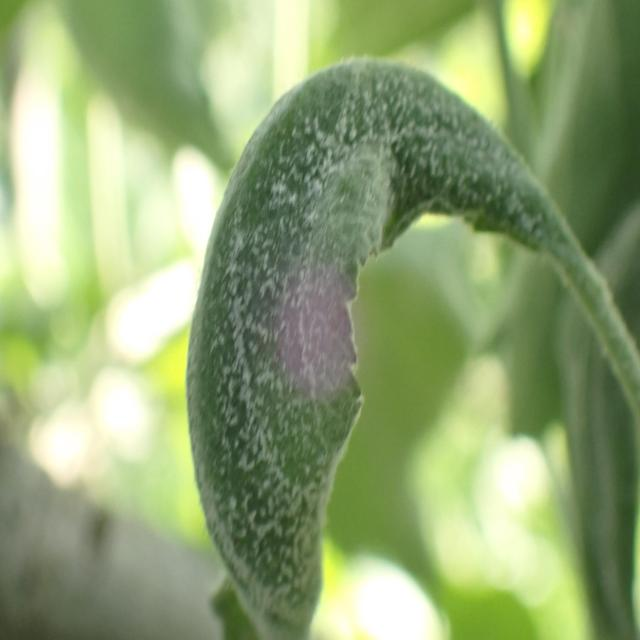Powdery_mildew: (186, 32, 631, 640)
